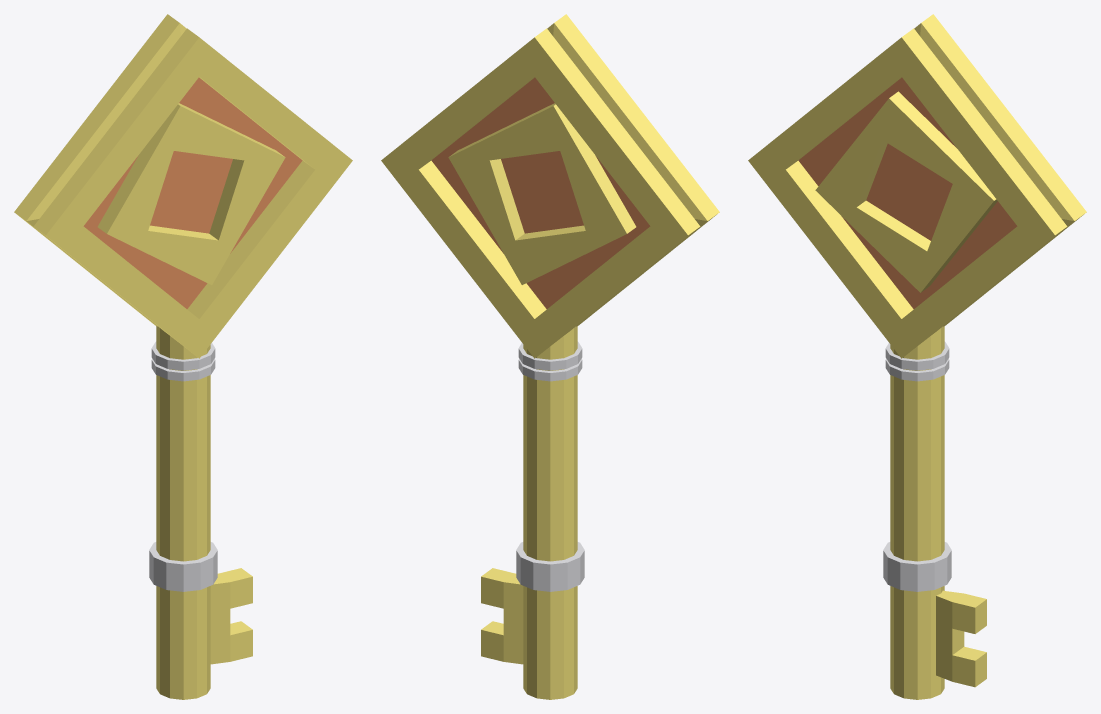
Rendered from treasure_key.fbx.
3 renders of one model, left to right at view 1: azimuth 30°, elevation 25°; view 2: azimuth 150°, elevation 25°; view 3: azimuth 330°, elevation 25°, orthographic.
Visible parts, largest first — view 1: Mesh; view 2: Mesh; view 3: Mesh.
Part boxes in pixels (x1=…): Mesh: x1=14, y1=14, x2=352, y2=699; Mesh: x1=381, y1=14, x2=719, y2=699; Mesh: x1=748, y1=14, x2=1086, y2=699.
Size of the model in its own units: 0.281 by 0.5795 by 0.0543.
